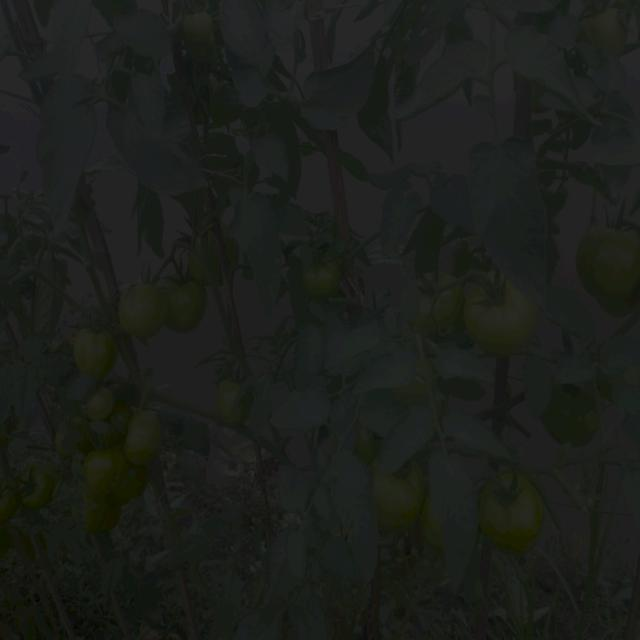tomato: (465, 278, 535, 357), (575, 225, 640, 308), (485, 466, 546, 548), (84, 451, 158, 506), (122, 282, 182, 347), (553, 384, 606, 455), (368, 467, 419, 538), (422, 272, 469, 335), (69, 323, 126, 373), (168, 276, 212, 332), (125, 410, 165, 464), (217, 374, 251, 429), (300, 259, 346, 299), (422, 488, 445, 559), (23, 470, 59, 507), (180, 4, 217, 40), (355, 425, 383, 464), (1, 481, 24, 518), (85, 387, 113, 417)
